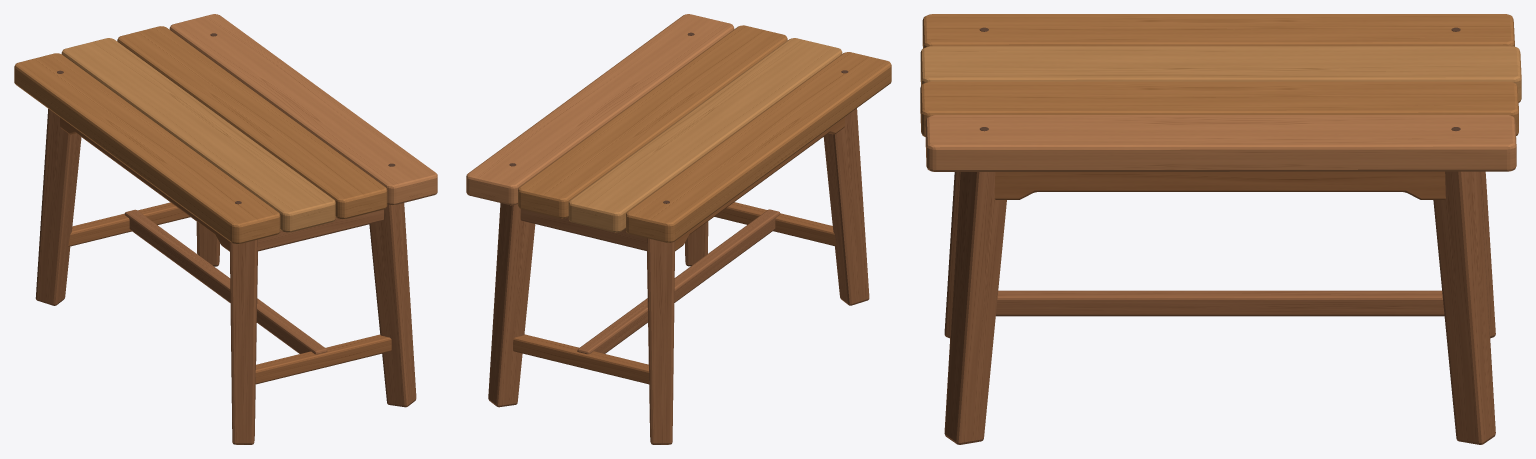
The model's file is SM_GukbapTable.fbx.
3 views of the same model, side by side, from view 1: azimuth 30°, elevation 25°; view 2: azimuth 150°, elevation 25°; view 3: azimuth 270°, elevation 25° (orthographic). The views are drawn at different scales.
Visible parts, largest first — view 1: SM_GukbapTable; view 2: SM_GukbapTable; view 3: SM_GukbapTable.
Boxes of the visible parts, x1=… form: SM_GukbapTable: x1=14, y1=14, x2=437, y2=444; SM_GukbapTable: x1=466, y1=14, x2=891, y2=444; SM_GukbapTable: x1=920, y1=14, x2=1521, y2=444.
Size of what is drawn, in the model's own units: 68.6 by 130 by 73.93.
Materials: 1 (1 with a texture image).
